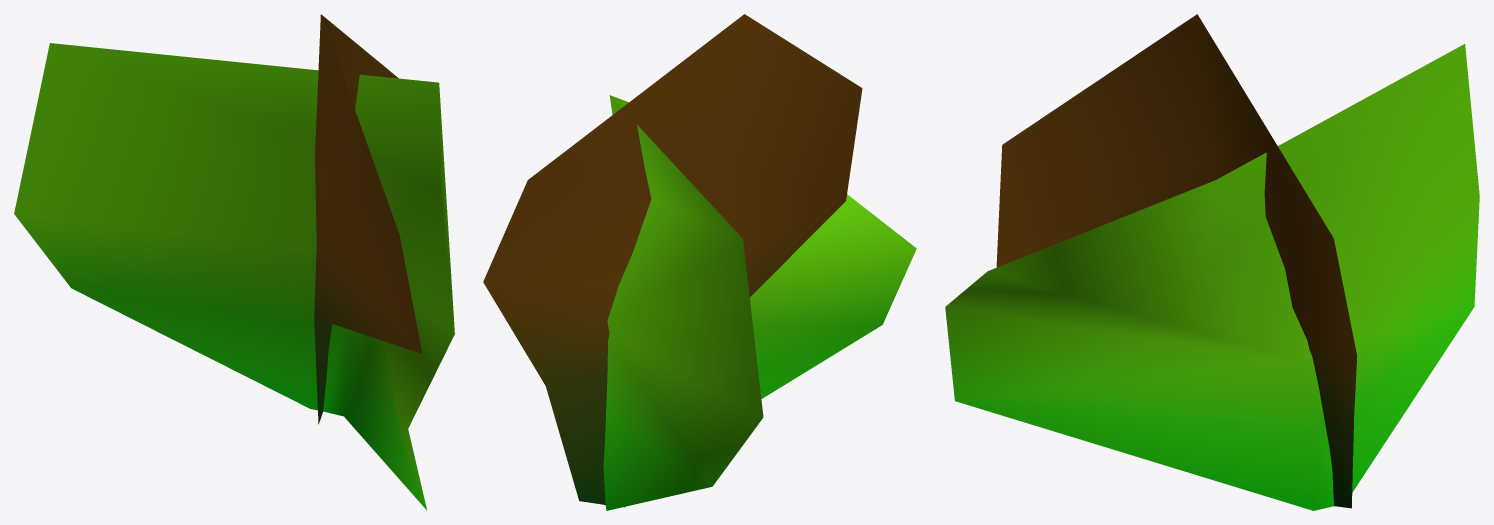
The model's file is Var1Hi14.fbx.
3 views of the same model, side by side, from view 1: azimuth 30°, elevation 25°; view 2: azimuth 150°, elevation 25°; view 3: azimuth 270°, elevation 25° (orthographic).
Parts seen in each view (by area): view 1: bend1; view 2: bend1; view 3: bend1.
Part boxes in pixels (<box>): bend1: <box>14,14,454,509</box>; bend1: <box>483,14,916,510</box>; bend1: <box>945,14,1479,510</box>.
Bounding box in the file's own units: 1.04 × 1.35 × 1.41.
